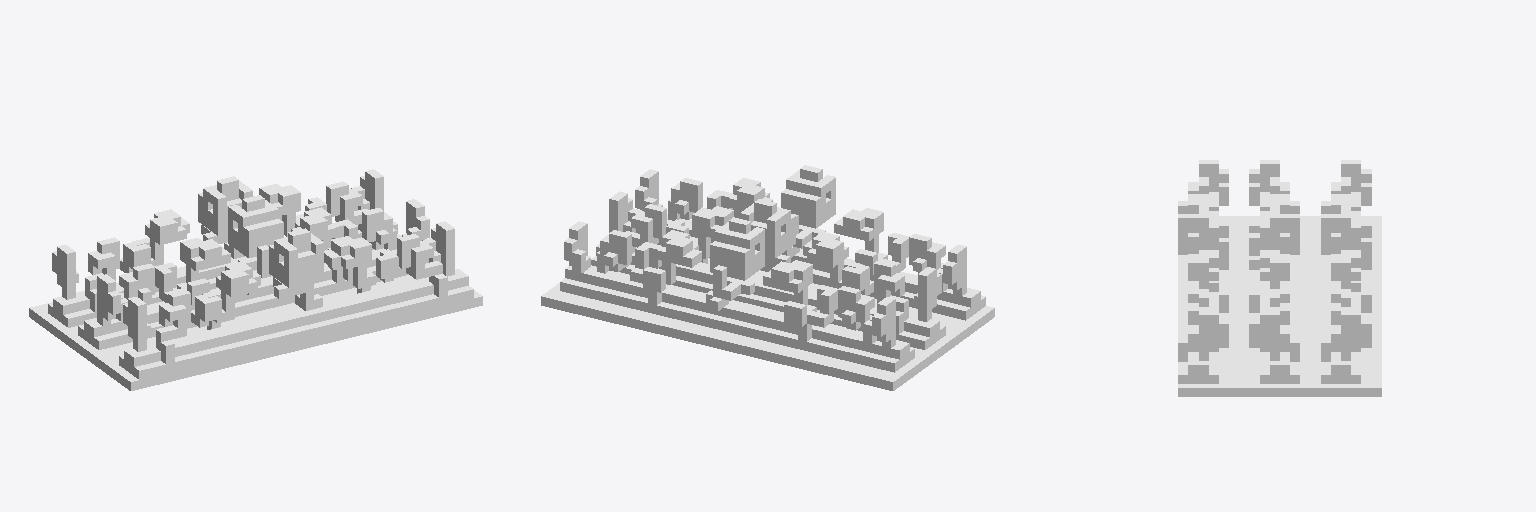
Rendered from yolKenari.obj.
3 renders of one model, left to right at view 1: azimuth 30°, elevation 25°; view 2: azimuth 150°, elevation 25°; view 3: azimuth 270°, elevation 25°, orthographic.
Visible parts, largest first — view 1: yolKenari; view 2: yolKenari; view 3: yolKenari.
Boxes of the visible parts, <box> form: yolKenari: <box>29,169,482,390</box>; yolKenari: <box>541,165,994,390</box>; yolKenari: <box>1178,160,1381,396</box>.
Bounding box in the file's own units: 40 × 12 × 20.